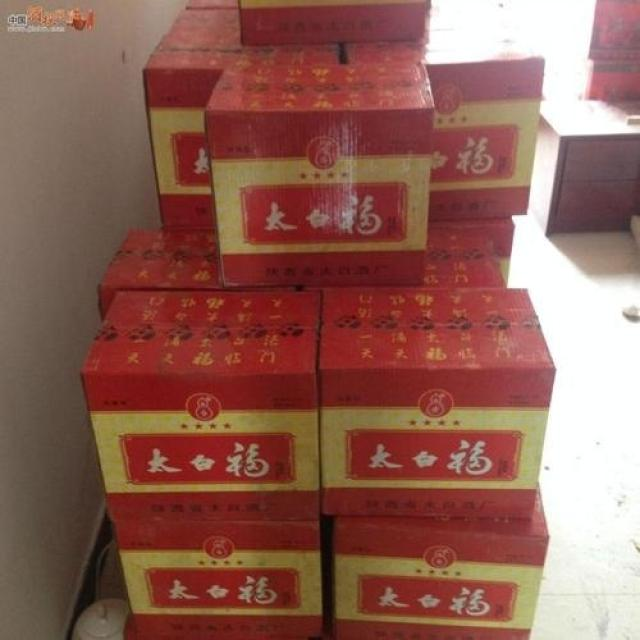box: (80, 289, 322, 521), (317, 289, 555, 519), (205, 57, 435, 290), (142, 6, 342, 228), (342, 24, 546, 220), (331, 494, 549, 639), (113, 522, 326, 639), (530, 96, 639, 238), (98, 226, 220, 327), (429, 218, 515, 287), (549, 37, 639, 96), (563, 0, 639, 62), (425, 234, 506, 288)
